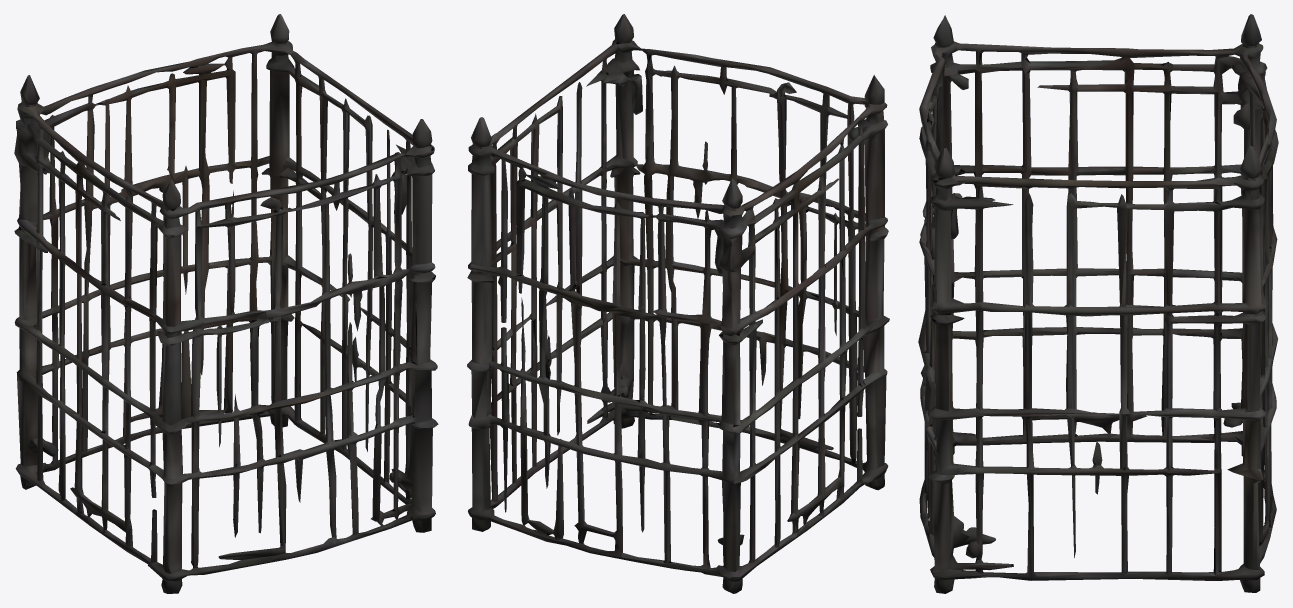
The model's file is old-iron-portcullis-v001.glb.
3 views of the same model, side by side, from view 1: azimuth 30°, elevation 25°; view 2: azimuth 150°, elevation 25°; view 3: azimuth 270°, elevation 25° (orthographic). The views are drawn at different scales.
Visible parts, largest first — view 1: old-iron-portcullis; view 2: old-iron-portcullis; view 3: old-iron-portcullis.
Part boxes in pixels (x1,y1,x2,y2): old-iron-portcullis: [14, 14, 438, 593]; old-iron-portcullis: [467, 14, 889, 593]; old-iron-portcullis: [918, 14, 1278, 593].
Bounding box in the file's own units: 1.75 × 2.51 × 1.83.
1 material, 1 textured.
